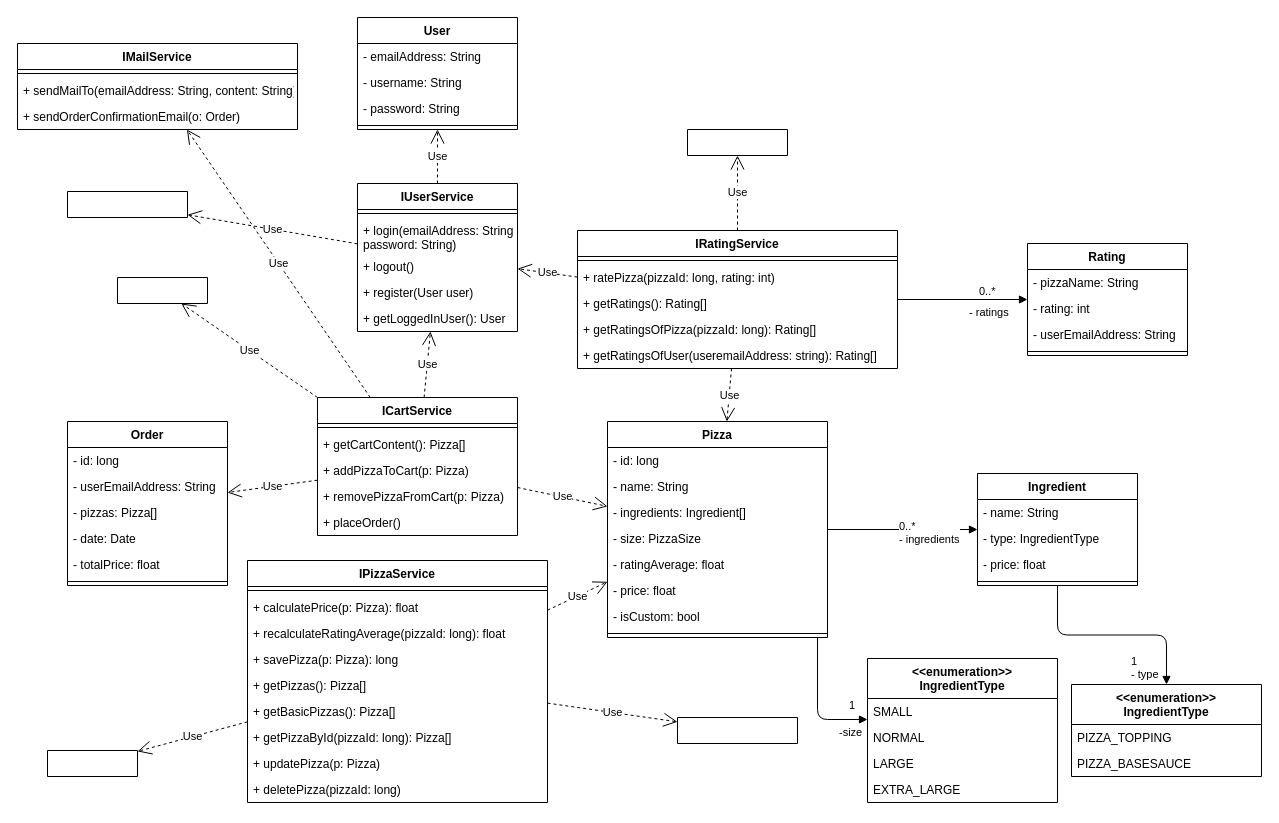
Image size: 1279x823. Some labels were removed from this diagram. Here are the shapes that lost their labels. From the top down, the centre of each, then its label:
At pixel 737 142: "IRatingDao".
At pixel 127 204: "IUserDao".
At pixel 162 290: "IOrderDao".
At pixel 737 730: "IIngredientDao".
At pixel 92 763: "IPizzaDao".
